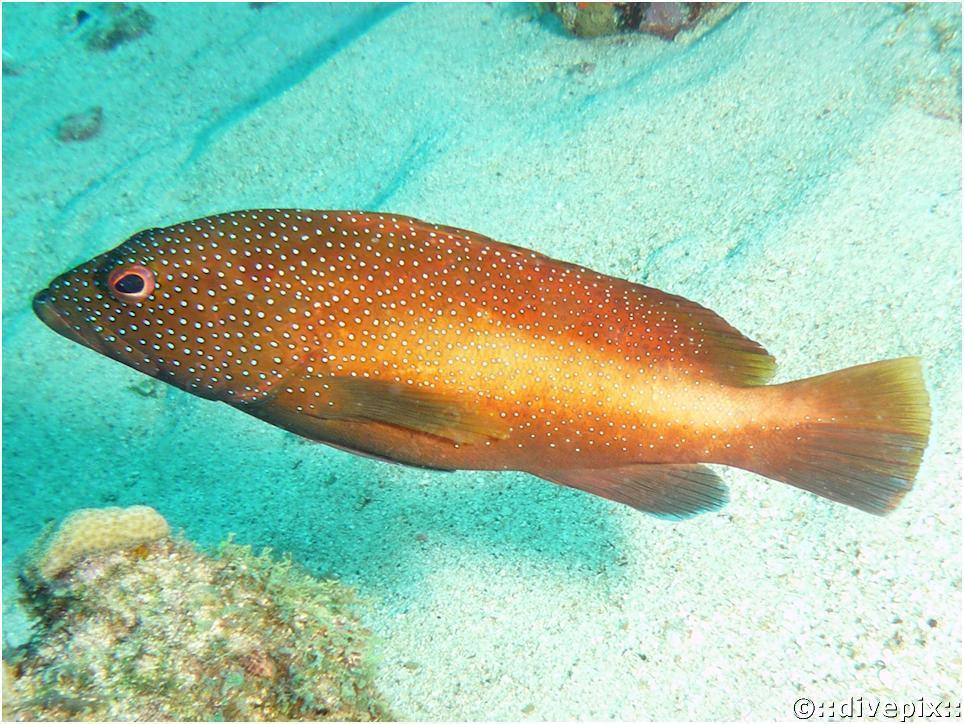Cephalopholis_fulvaw: (25, 186, 930, 558)
